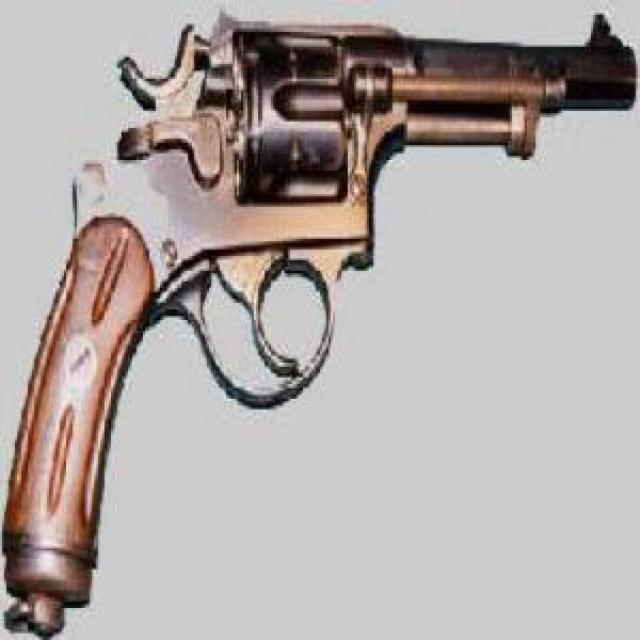pistol: (2, 11, 632, 626)
